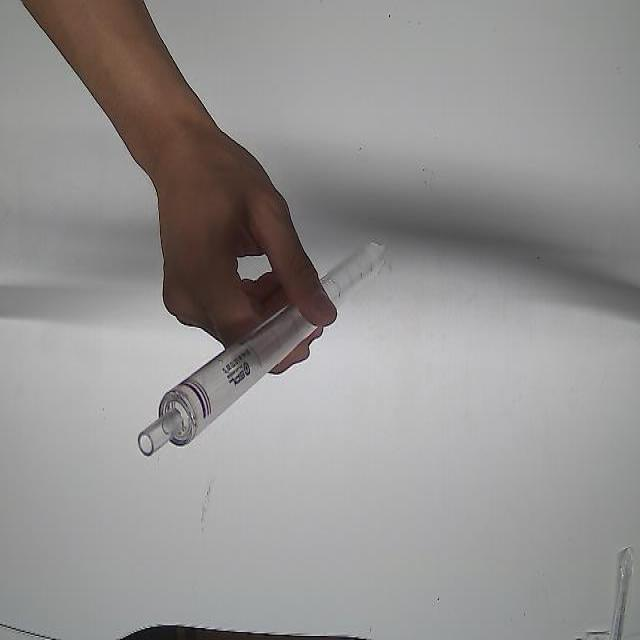Serelogical Pipet 50 mL: (136, 230, 392, 460)
